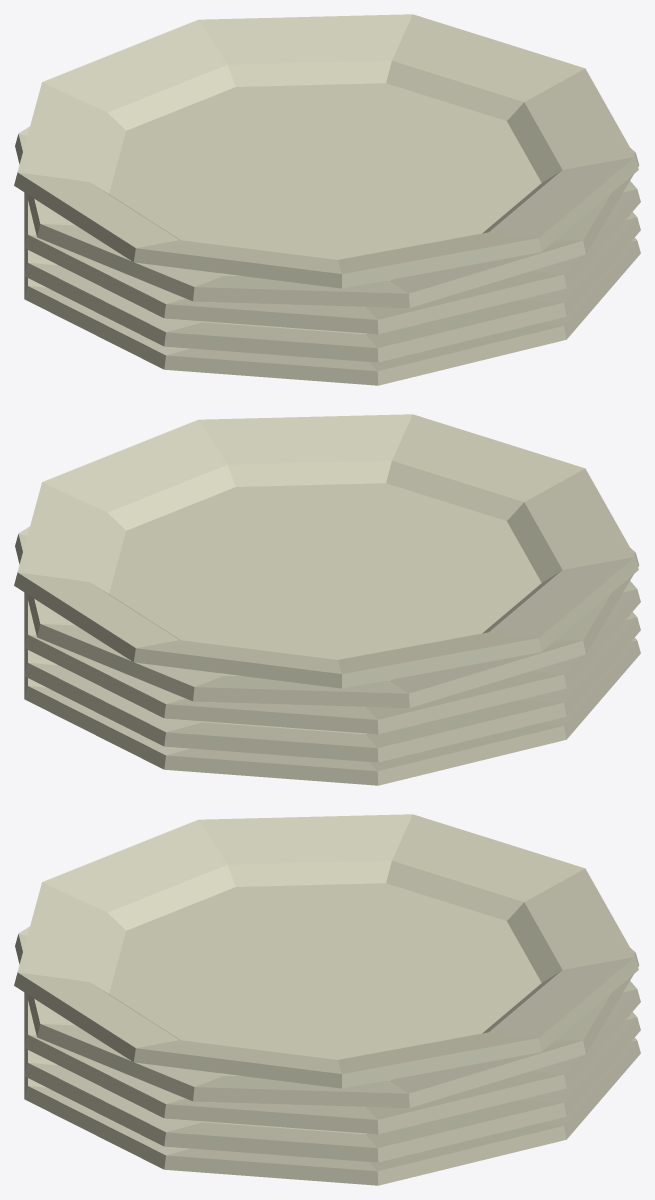
File: Pila piatti.fbx
The picture shows the model from 3 angles, top to bottom: view 1: azimuth 30°, elevation 25°; view 2: azimuth 150°, elevation 25°; view 3: azimuth 270°, elevation 25°; orthographic projection.
Parts seen in each view (by area): view 1: Plate.002; view 2: Plate.002; view 3: Plate.002.
Part boxes in pixels (x1=…): Plate.002: x1=14, y1=14, x2=640, y2=385; Plate.002: x1=14, y1=414, x2=640, y2=785; Plate.002: x1=14, y1=814, x2=640, y2=1185.
Bounding box in the file's own units: 44.7 × 11.06 × 44.19.
